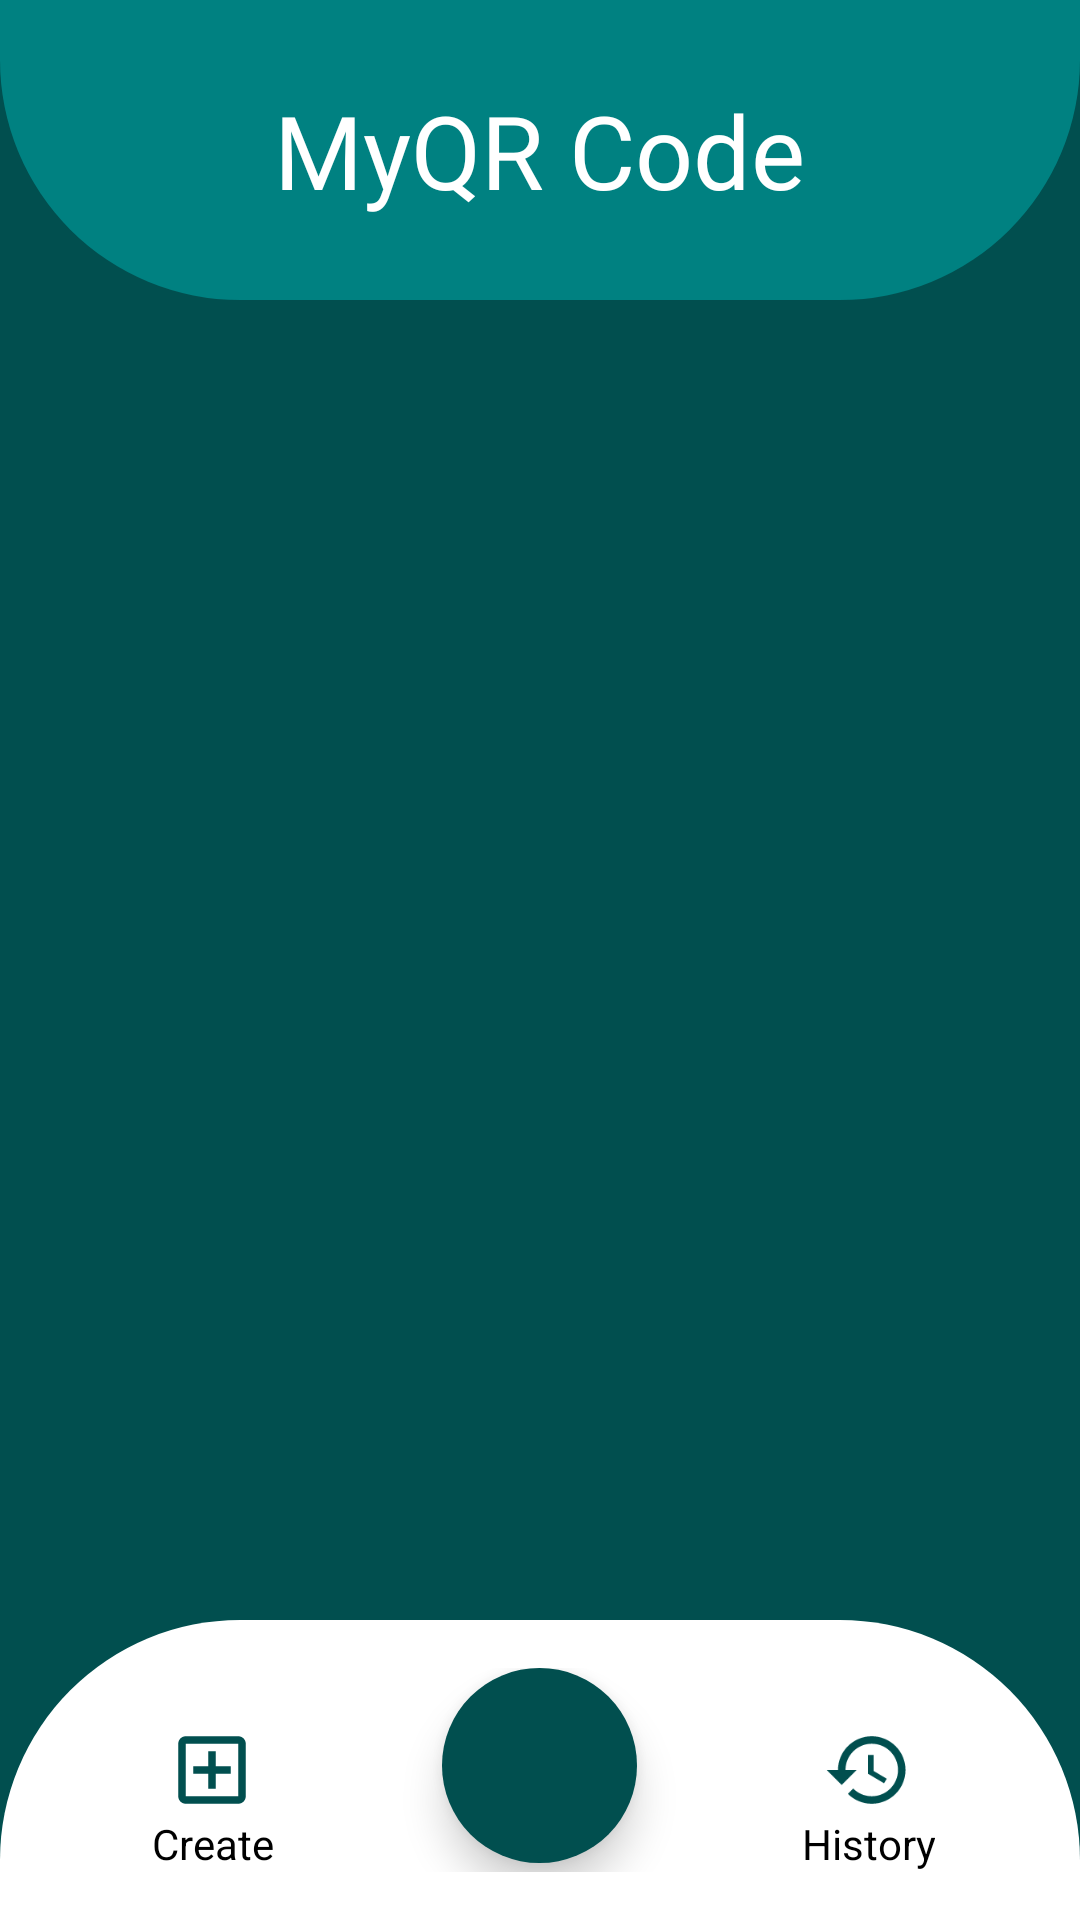

Named icons in this screenshot (1080*1920) and their bounding boxes, (x1, y1, x2, y2):
add box: (178, 1736, 246, 1804)
